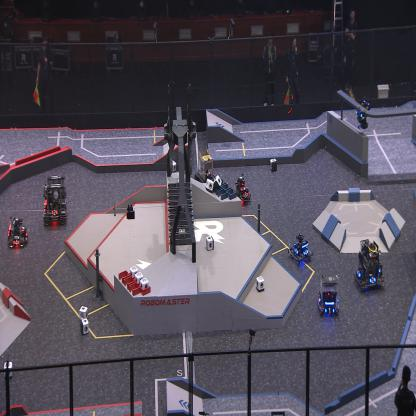car: (355, 237, 385, 290), (42, 175, 68, 226), (316, 273, 340, 317), (194, 149, 216, 191), (288, 233, 313, 266), (6, 217, 28, 248), (234, 174, 250, 204)
